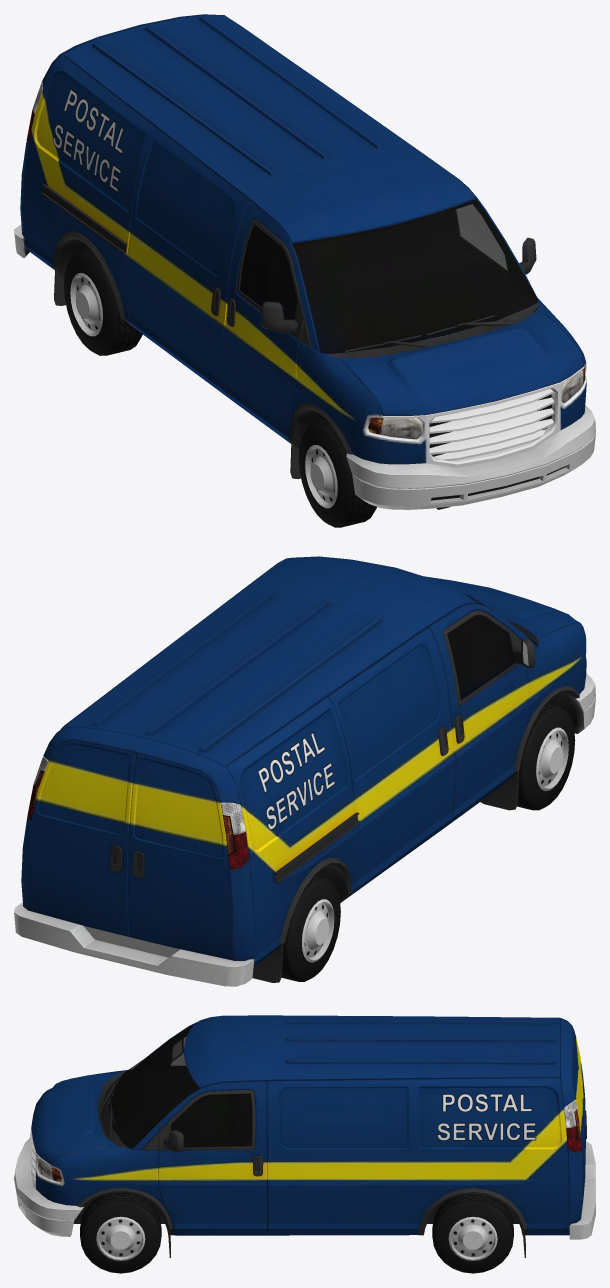
The model's file is veh-postvan.glb.
The picture shows the model from 3 angles, top to bottom: view 1: azimuth 30°, elevation 25°; view 2: azimuth 150°, elevation 25°; view 3: azimuth 270°, elevation 25°; orthographic projection. The views are drawn at different scales.
Visible parts, largest first — view 1: postvan_postvan_0, postvan_postvan_glass_0, postvan_postvan_decal_0, postvan_optics_tex_0; view 2: postvan_postvan_0, postvan_postvan_glass_0, postvan_postvan_decal_0, postvan_optics_tex_0; view 3: postvan_postvan_0, postvan_postvan_glass_0, postvan_postvan_decal_0, postvan_optics_tex_0.
Boxes of the visible parts, x1,y1,x2,y2 form: postvan_postvan_0: (14, 14, 595, 527); postvan_postvan_glass_0: (239, 199, 537, 353); postvan_postvan_decal_0: (53, 89, 123, 192); postvan_optics_tex_0: (26, 81, 585, 439); postvan_postvan_0: (14, 556, 595, 986); postvan_postvan_glass_0: (447, 593, 538, 699); postvan_postvan_decal_0: (257, 732, 334, 830); postvan_optics_tex_0: (27, 756, 249, 870); postvan_postvan_0: (14, 1015, 595, 1273); postvan_postvan_glass_0: (108, 1023, 252, 1148); postvan_postvan_decal_0: (437, 1093, 536, 1140); postvan_optics_tex_0: (38, 1100, 581, 1182).
Bounding box in the file's own units: 2.19 × 1.98 × 5.34.
4 materials, 4 textured.
